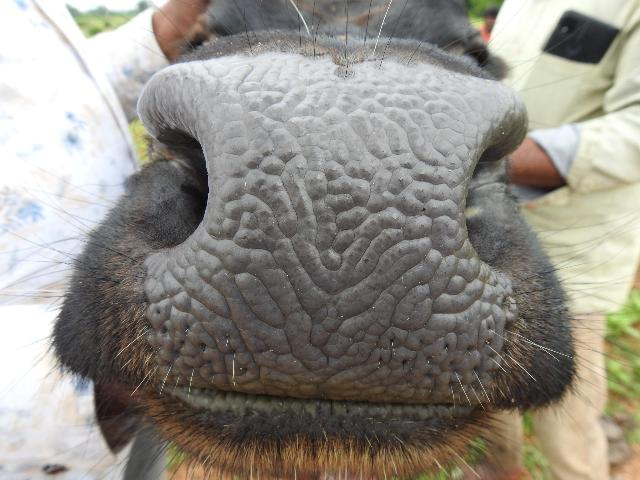Muzzle: (147, 60, 511, 394)
